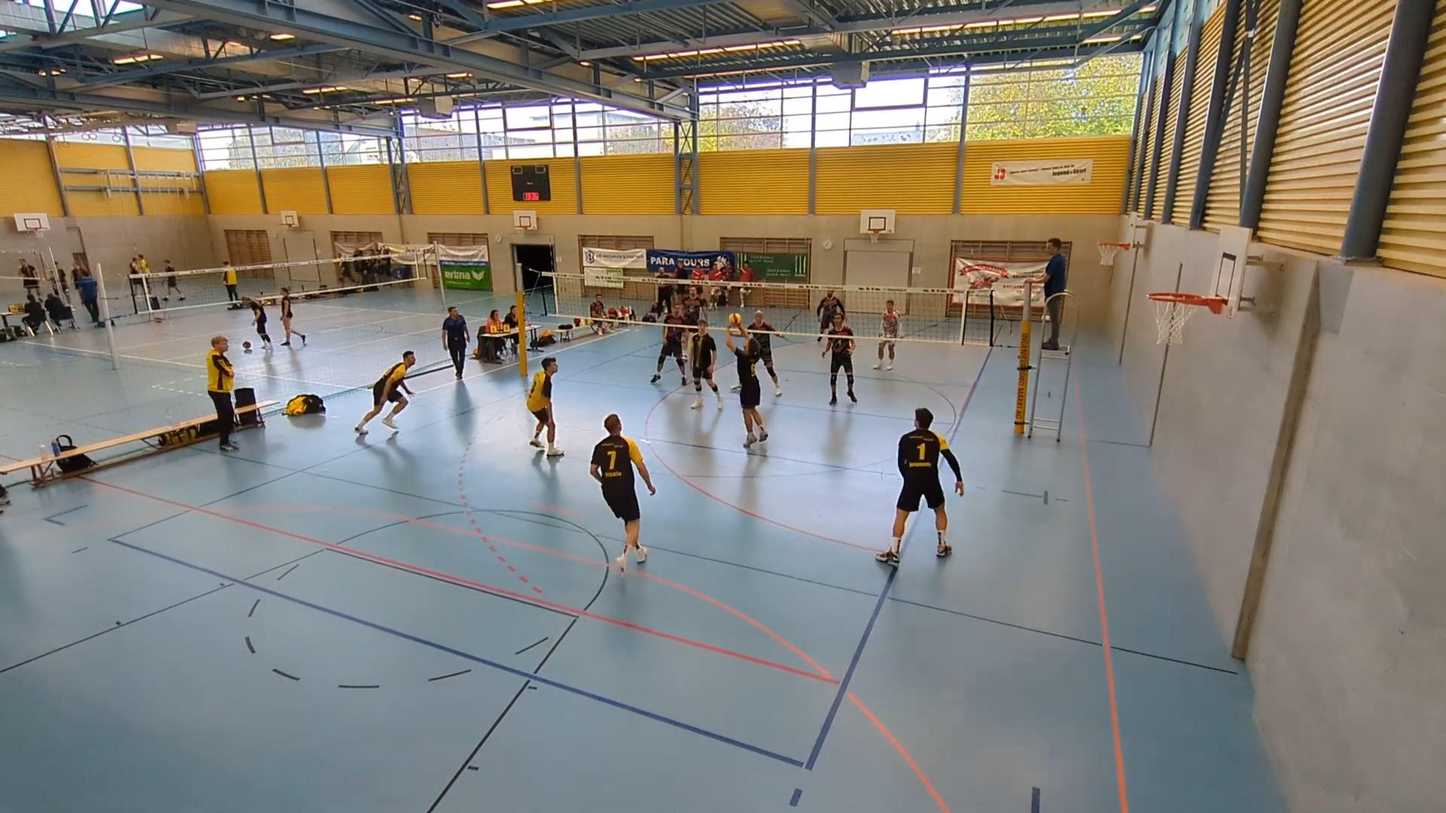Player: (876, 408, 963, 565), (590, 414, 655, 571), (355, 351, 416, 434), (526, 357, 563, 455), (821, 312, 857, 404), (688, 319, 723, 410), (747, 311, 782, 396), (650, 305, 686, 385), (872, 299, 899, 369), (816, 291, 845, 340), (682, 286, 705, 325)
Set: (726, 320, 773, 454)
ball: (726, 314, 743, 324)
